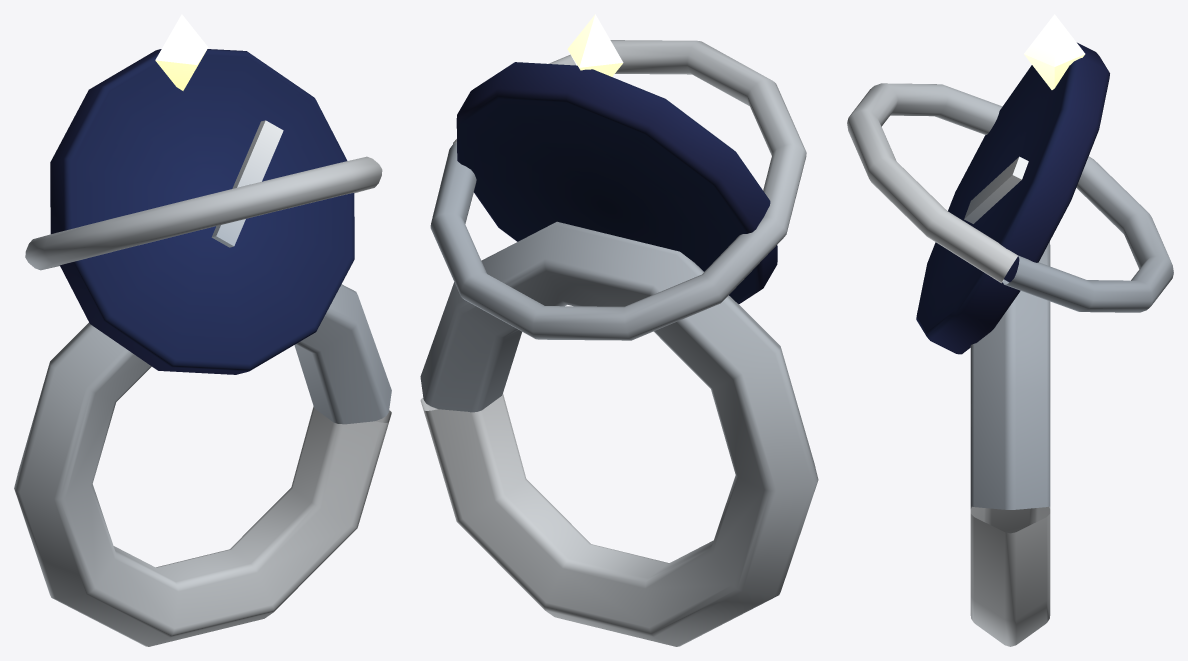
File: lg_midnight_meridian.glb
3 views of the same model, side by side, from view 1: azimuth 30°, elevation 25°; view 2: azimuth 150°, elevation 25°; view 3: azimuth 270°, elevation 25° (orthographic). The views are drawn at different scales.
Parts seen in each view (by area): view 1: lg_midnight_meridian, lg_midnight_meridian_trim, lg_midnight_meridian_glow; view 2: lg_midnight_meridian, lg_midnight_meridian_glow; view 3: lg_midnight_meridian, lg_midnight_meridian_glow, lg_midnight_meridian_trim.
Boxes of the visible parts, x1,y1,x2,y2 form: lg_midnight_meridian: (14, 49, 391, 646); lg_midnight_meridian_trim: (211, 120, 283, 247); lg_midnight_meridian_glow: (155, 14, 208, 90); lg_midnight_meridian: (420, 40, 818, 646); lg_midnight_meridian_glow: (567, 14, 623, 76); lg_midnight_meridian: (847, 42, 1173, 646); lg_midnight_meridian_glow: (1024, 14, 1085, 89); lg_midnight_meridian_trim: (964, 156, 1028, 223).
Size of the model in its own units: 0.4921 by 0.7551 by 0.37.
